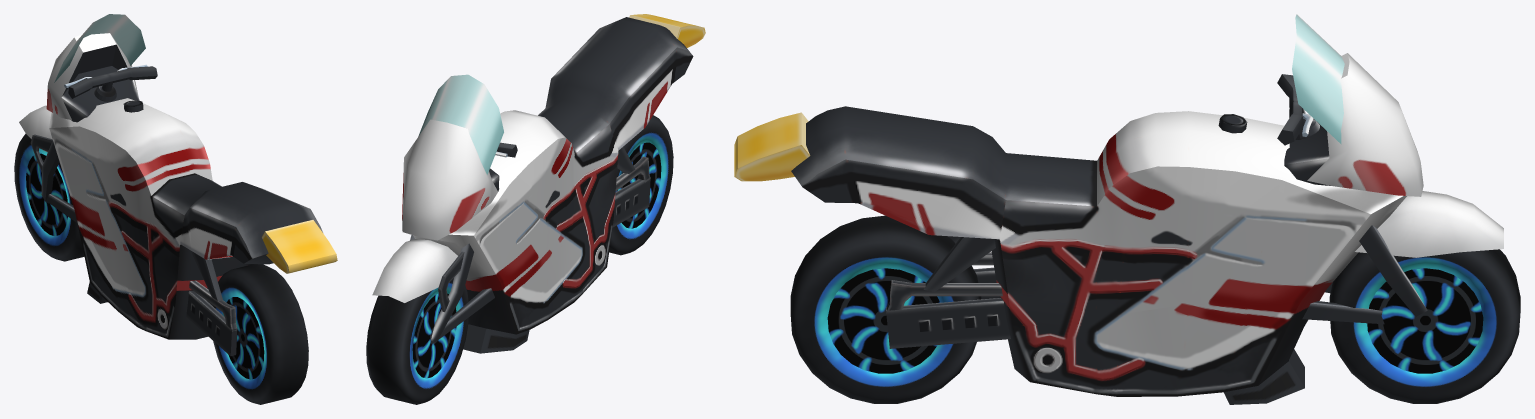
Rendered from DW_motorcycle.FBX.
3 views of the same model, side by side, from view 1: azimuth 30°, elevation 25°; view 2: azimuth 150°, elevation 25°; view 3: azimuth 270°, elevation 25° (orthographic). The views are drawn at different scales.
Visible parts, largest first — view 1: DW_Motorcycle; view 2: DW_Motorcycle; view 3: DW_Motorcycle.
Part boxes in pixels (x1,y1,x2,y2): DW_Motorcycle: [14, 14, 337, 404]; DW_Motorcycle: [366, 14, 705, 404]; DW_Motorcycle: [734, 14, 1520, 404].
Bounding box in the file's own units: 13.8 × 43.09 × 81.35.
1 material, 1 textured.
